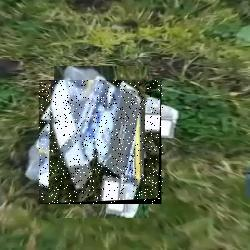restaffald: (40, 80, 164, 204)
